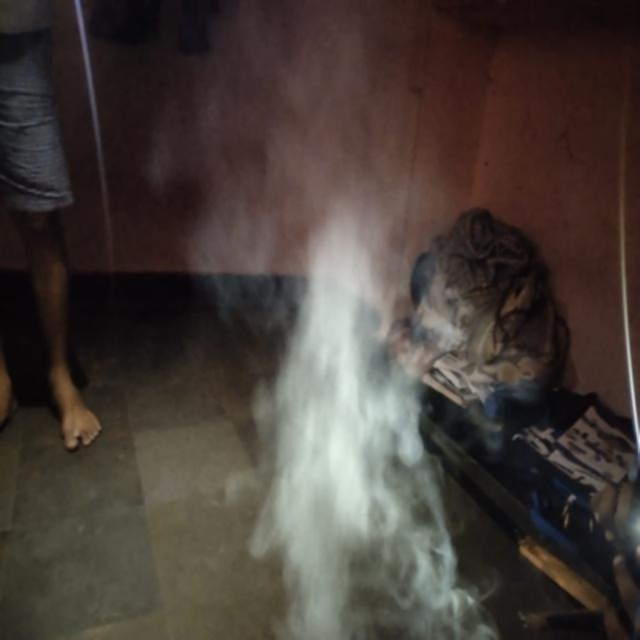smoke: (266, 241, 420, 574)
